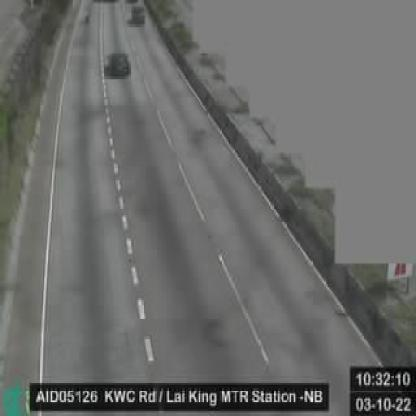Car: (106, 50, 132, 78)
